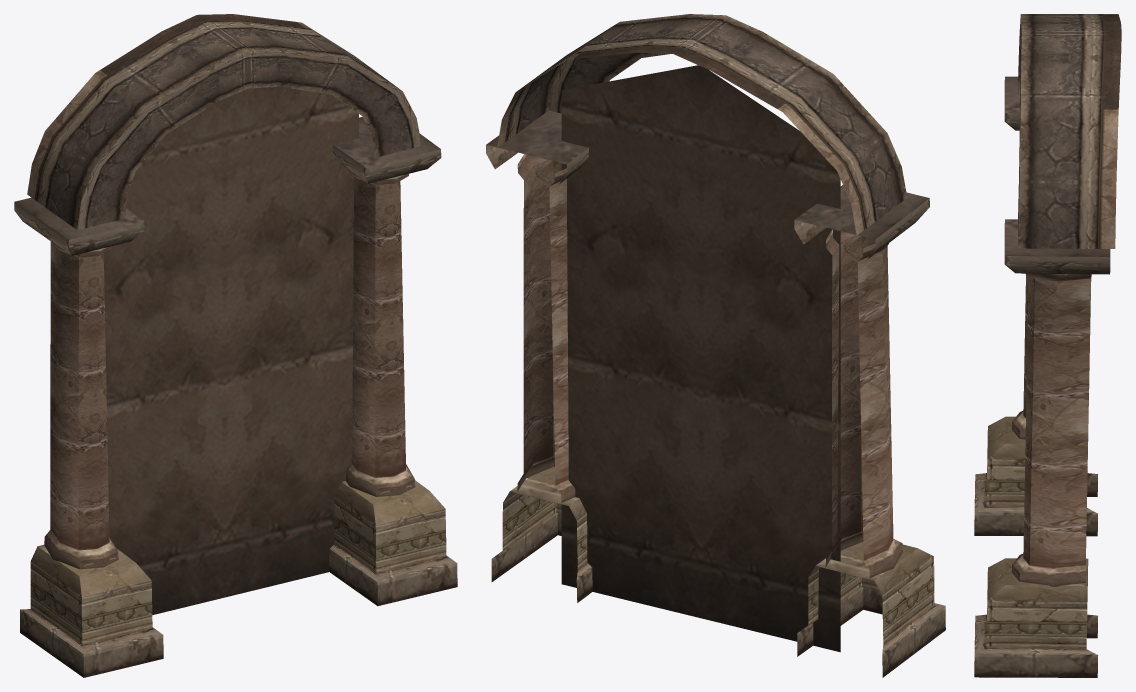
File: rysd_kuan_01.FBX
The picture shows the model from 3 angles, left to right: view 1: azimuth 30°, elevation 25°; view 2: azimuth 150°, elevation 25°; view 3: azimuth 270°, elevation 25°; orthographic projection. The views are drawn at different scales.
Visible parts, largest first — view 1: rysd_kuan_01; view 2: rysd_kuan_01; view 3: rysd_kuan_01.
Boxes of the visible parts, x1,y1,x2,y2 form: rysd_kuan_01: (14,14,457,677); rysd_kuan_01: (486,14,945,677); rysd_kuan_01: (974,14,1121,677).
Size of the model in its own units: 444 by 636 by 153.
